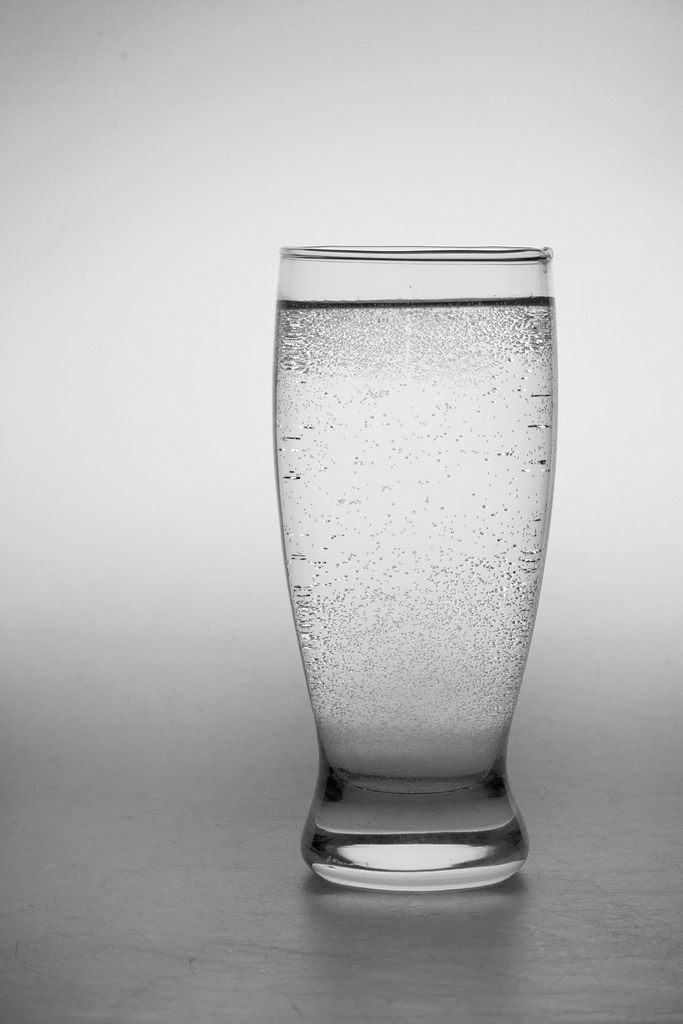glass of water: (274, 246, 558, 889)
